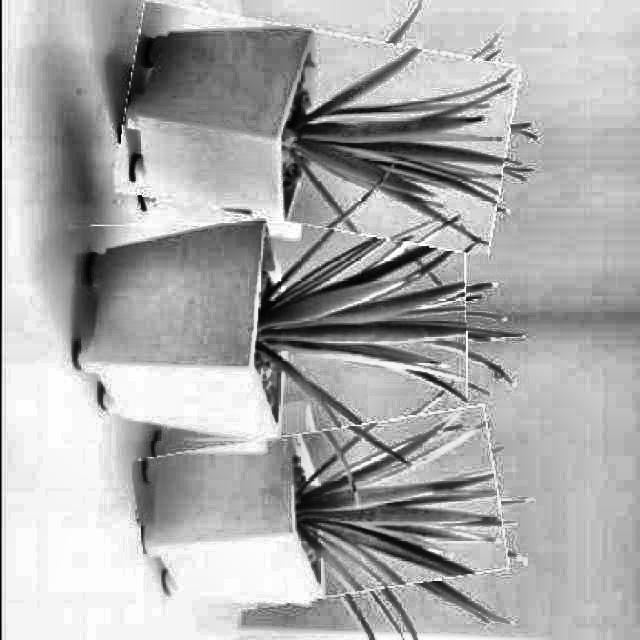plants: (117, 15, 511, 239), (66, 222, 466, 441), (133, 419, 502, 610)
